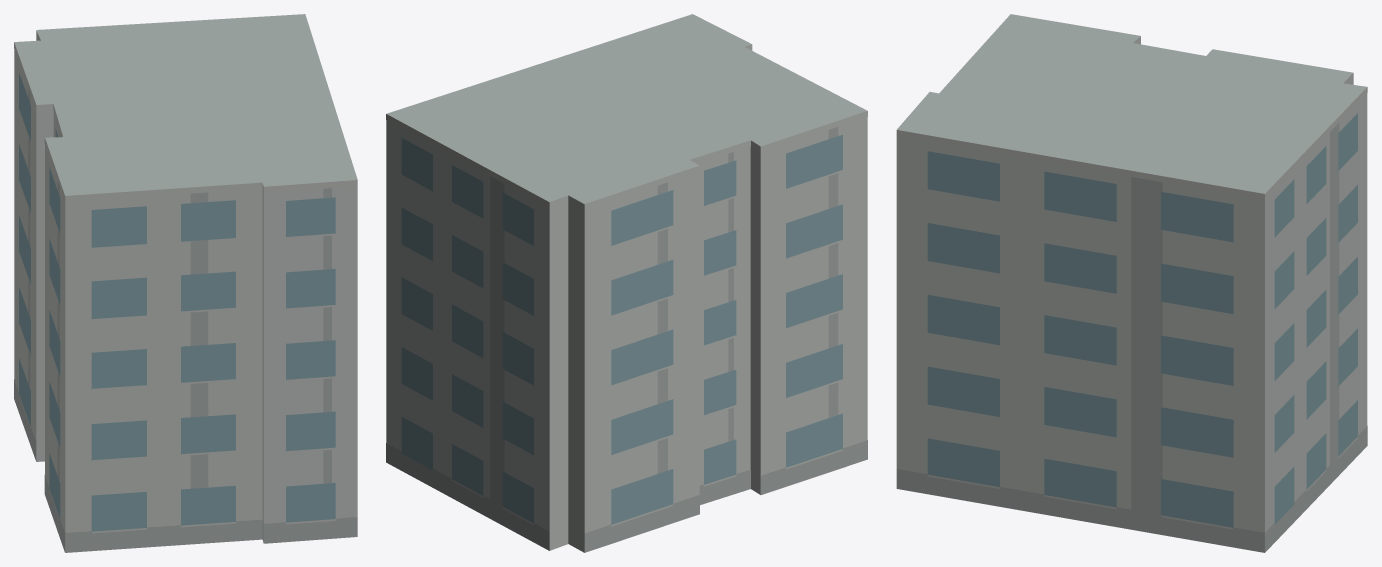
File: survey-upis-32887701.glb
The picture shows the model from 3 angles, left to right: view 1: azimuth 30°, elevation 25°; view 2: azimuth 150°, elevation 25°; view 3: azimuth 270°, elevation 25°; orthographic projection. The views are drawn at different scales.
Parts seen in each view (by area): view 1: survey-upis-32887701.tmp; view 2: survey-upis-32887701.tmp; view 3: survey-upis-32887701.tmp.
Part boxes in pixels (bbox=[...]): survey-upis-32887701.tmp: bbox=[14, 14, 357, 552]; survey-upis-32887701.tmp: bbox=[386, 14, 867, 552]; survey-upis-32887701.tmp: bbox=[896, 14, 1367, 552].
Size of the model in its own units: 15.16 by 14.1 by 16.77.
